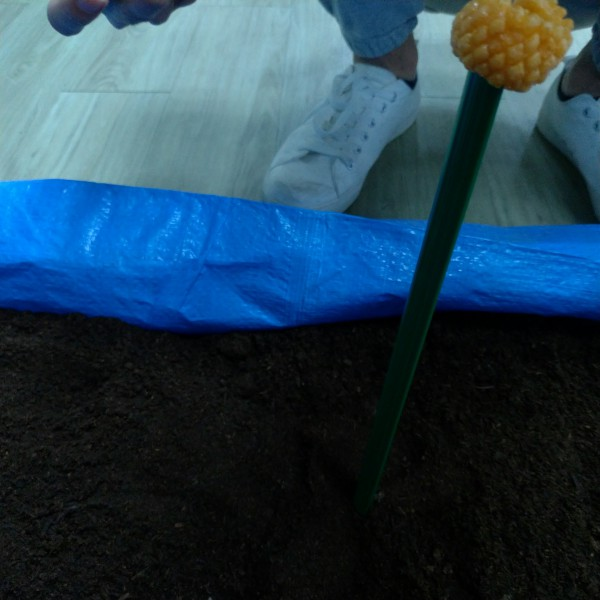eggs: (457, 2, 563, 87)
